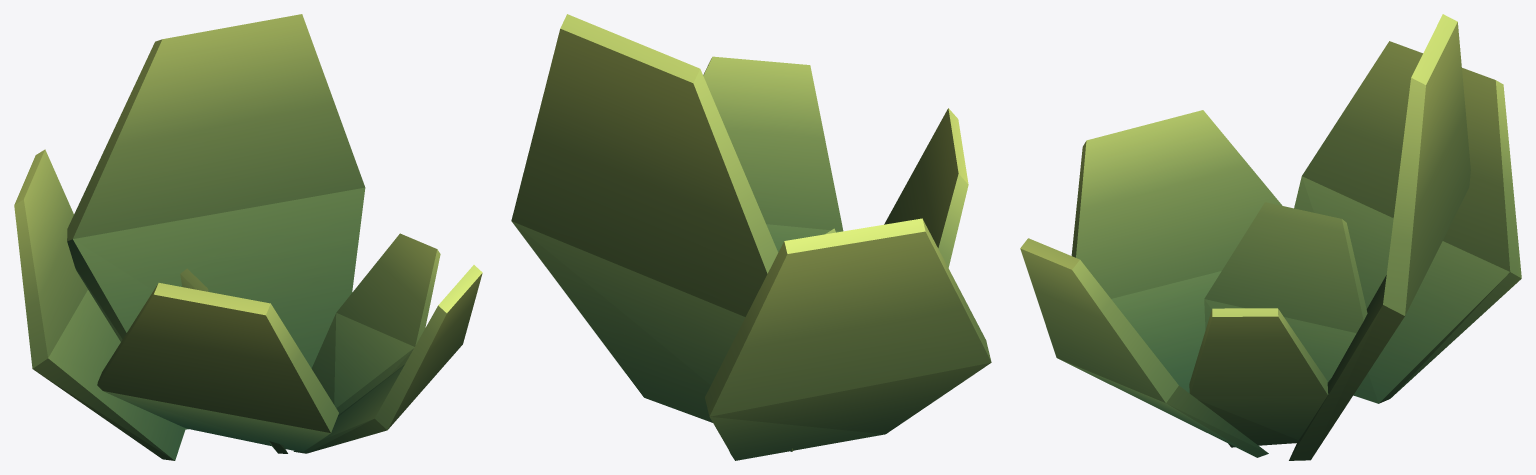
File: DesertGrass_02.fbx
3 views of the same model, side by side, from view 1: azimuth 30°, elevation 25°; view 2: azimuth 150°, elevation 25°; view 3: azimuth 270°, elevation 25° (orthographic). The views are drawn at different scales.
Visible parts, largest first — view 1: DesertGrass_02; view 2: DesertGrass_02; view 3: DesertGrass_02.
Part boxes in pixels (left/top/right/bottom): DesertGrass_02: left=14, top=14, right=482, bottom=460; DesertGrass_02: left=511, top=14, right=991, bottom=460; DesertGrass_02: left=1020, top=14, right=1521, bottom=460.
Bounding box in the file's own units: 512 × 469 × 541.
